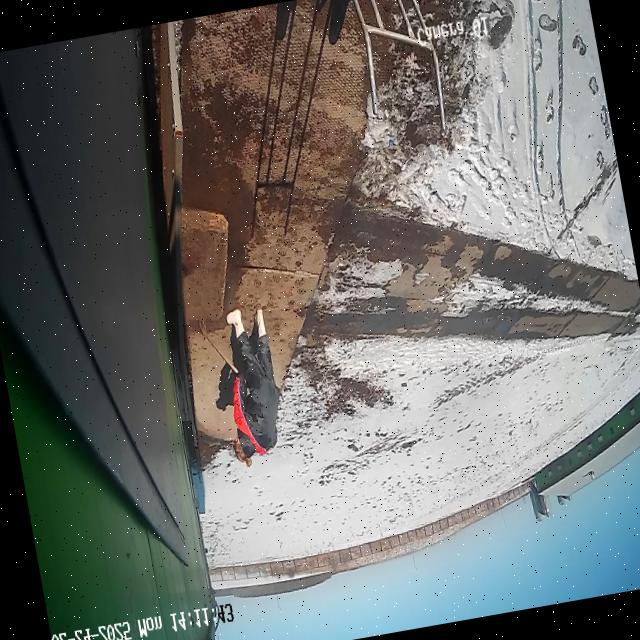Red uniform: (206, 300, 294, 470)
